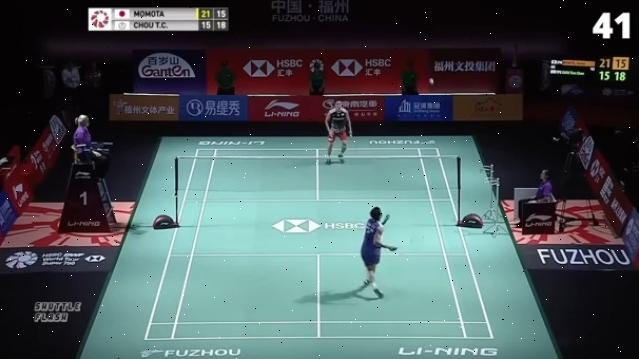Shuttlecock: (428, 76, 436, 86)
